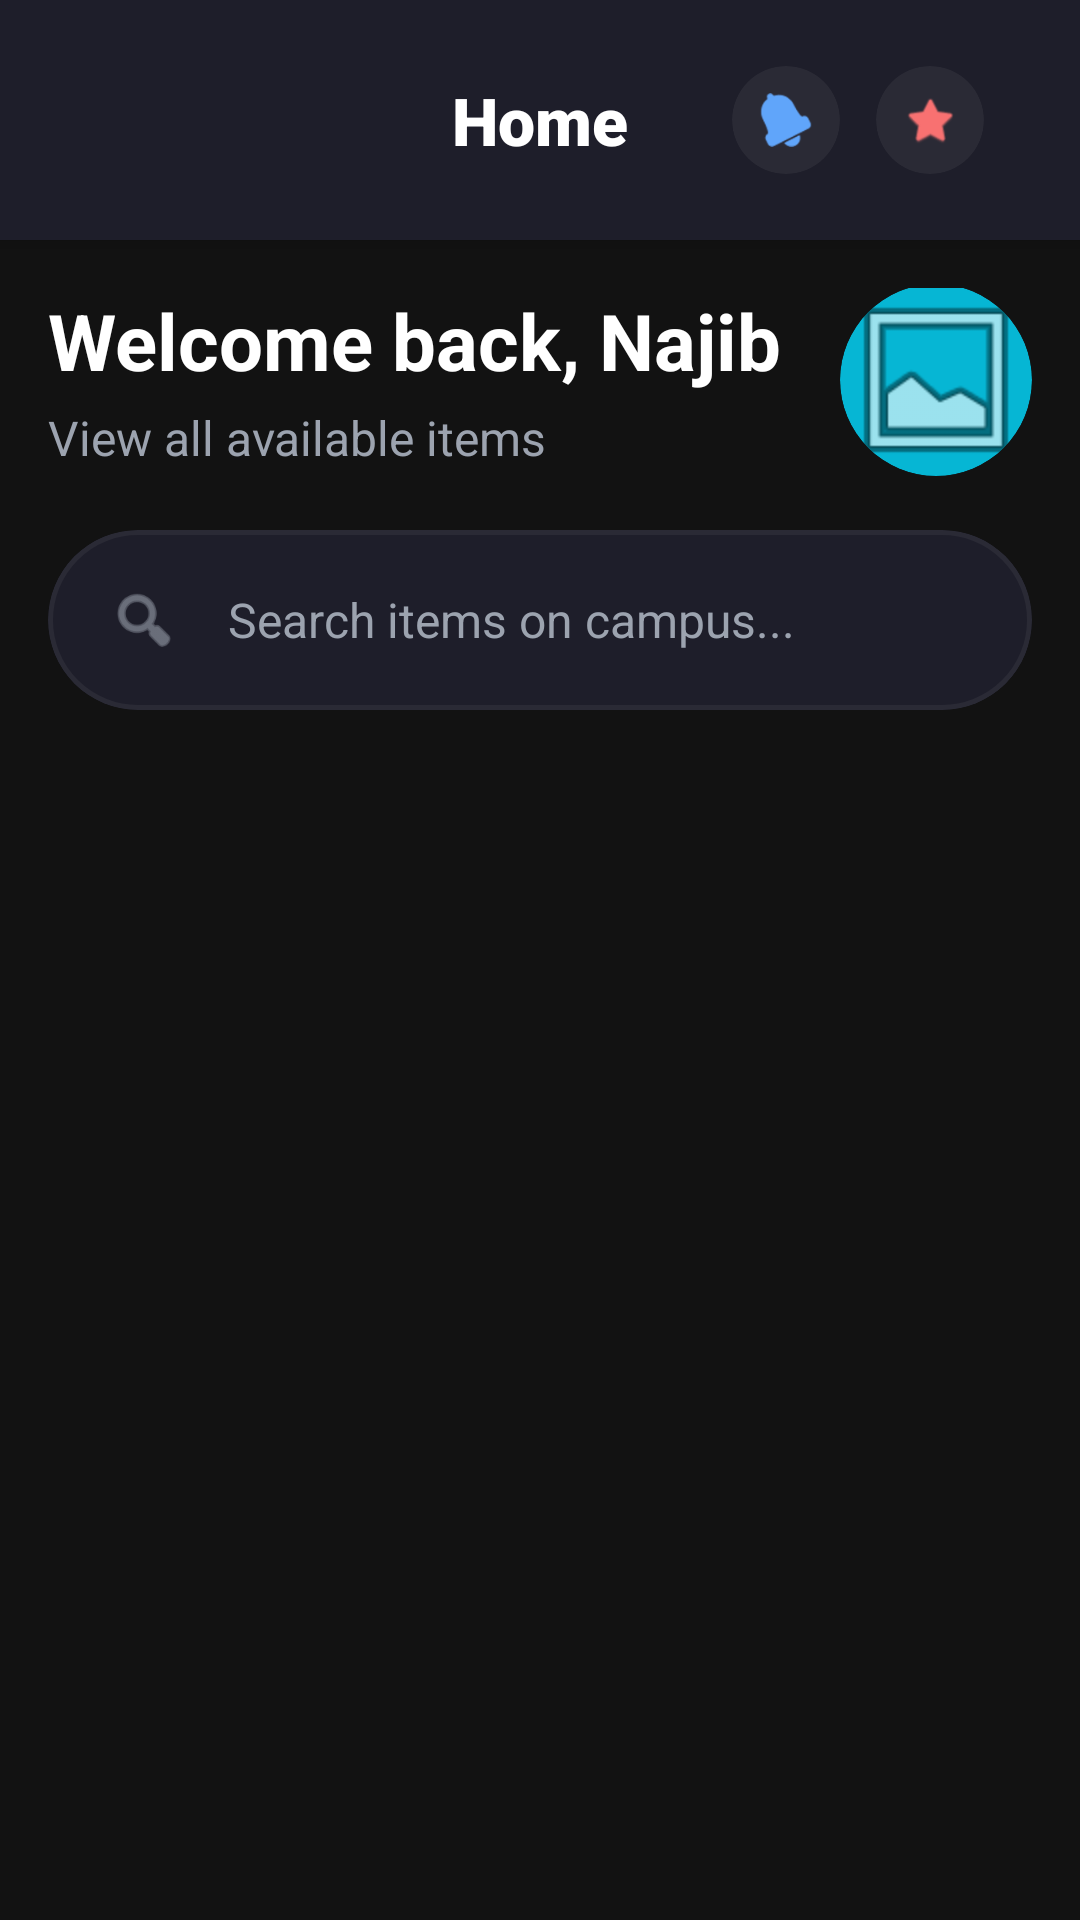

Icons on this 1080 × 1920 Android screen, each with the point to tap as [x,y]:
Favorites: [930,120]
Notifications: [786,120]
